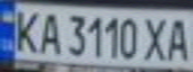0: (118, 15, 142, 61)
1: (84, 12, 106, 59), (103, 14, 121, 58)
3: (63, 10, 87, 57)
A: (163, 14, 193, 63), (36, 9, 63, 55)
K: (6, 7, 42, 54)
X: (139, 14, 172, 62)
